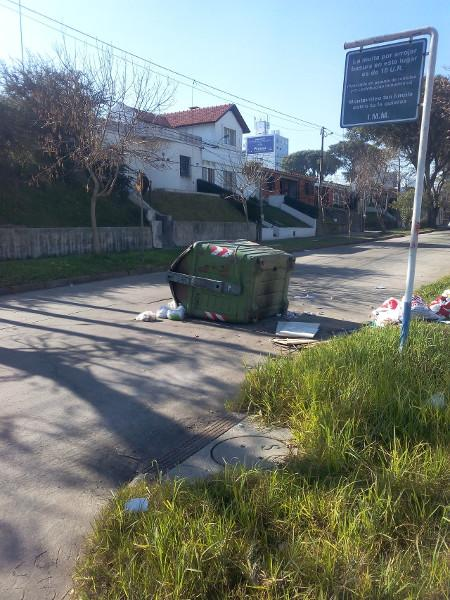Dechets: (369, 295, 445, 329), (135, 299, 189, 322), (429, 288, 449, 325), (277, 322, 321, 338), (271, 338, 321, 345), (288, 309, 323, 319), (296, 293, 313, 301), (374, 285, 385, 291)
Trash: (167, 237, 297, 328)
